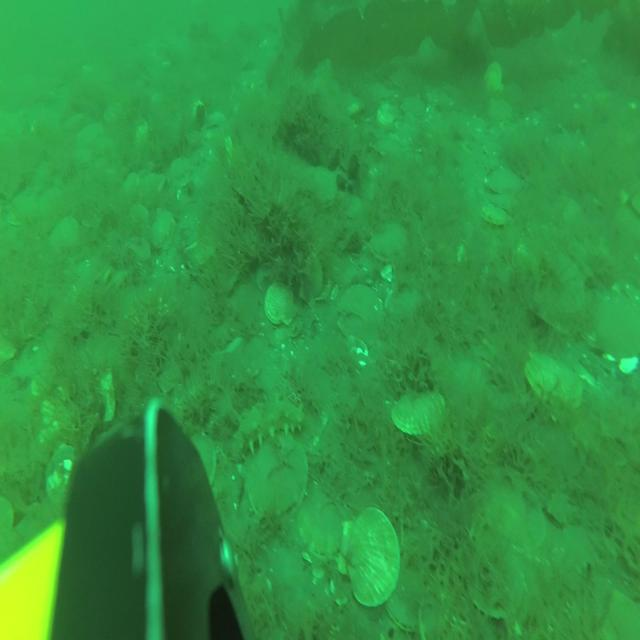holothurian: (231, 398, 291, 460)
scallop: (343, 504, 401, 613), (483, 464, 545, 556), (466, 532, 524, 620), (249, 436, 303, 522), (526, 248, 580, 330), (297, 484, 346, 568), (526, 346, 582, 416), (596, 283, 640, 370), (388, 553, 431, 634), (554, 524, 601, 591), (394, 388, 446, 443), (263, 281, 297, 330), (372, 218, 406, 266), (304, 164, 336, 213), (46, 448, 77, 497), (294, 256, 324, 306), (48, 215, 78, 258), (148, 205, 174, 252), (486, 164, 518, 200), (127, 238, 153, 272), (488, 99, 514, 130), (485, 60, 504, 94), (484, 207, 507, 234), (492, 192, 514, 219)
